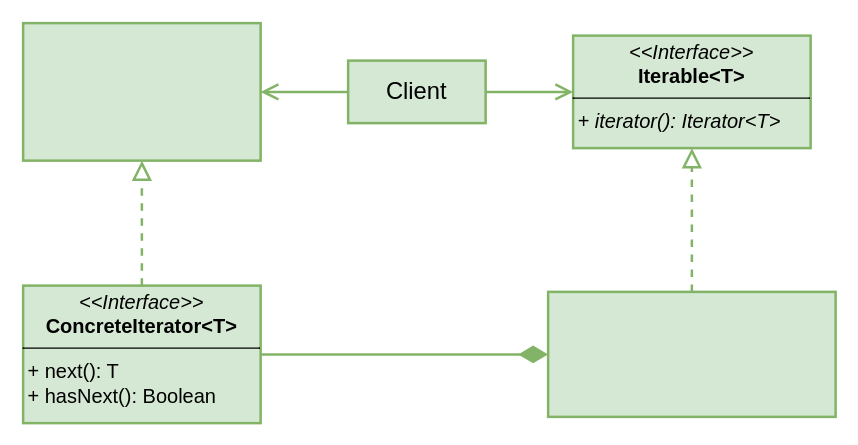
This 858x445 diagram has some shape labels left out. Each missing label, with the centre of its shape:
"<<Interface>> ConcreteIterable<T> + iterator: ConcreteIterator<T>" belongs at point (691, 354).
"<<Interface>> Iterator<T> + next(): T + hasNext(): Boolean" belongs at point (141, 91).
